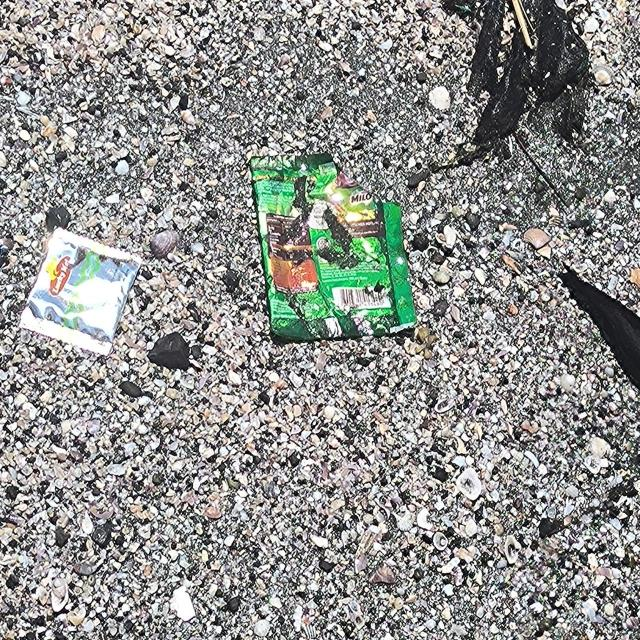plastic_waste: (251, 155, 418, 341), (19, 227, 145, 357)
